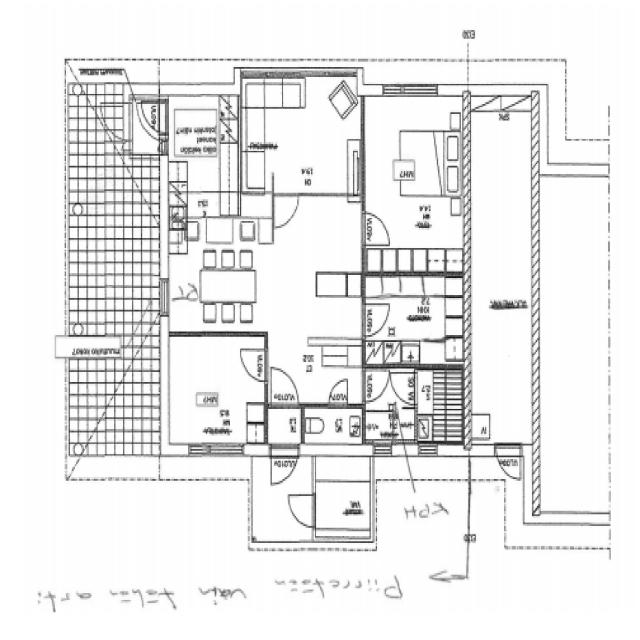door: (267, 363, 301, 406), (269, 442, 300, 487), (136, 99, 166, 144), (388, 365, 419, 408), (360, 208, 393, 248), (361, 298, 393, 337), (362, 366, 393, 406), (271, 192, 302, 230), (286, 490, 316, 529), (238, 345, 268, 383), (495, 443, 523, 483), (326, 375, 352, 406)
window: (380, 79, 440, 100), (200, 440, 243, 458), (371, 440, 394, 458), (188, 442, 209, 457)
zone: (169, 86, 267, 334), (471, 106, 536, 444), (268, 193, 365, 406), (361, 88, 464, 271), (240, 73, 361, 195), (167, 332, 267, 450), (363, 276, 467, 366), (313, 457, 373, 545), (302, 342, 366, 406), (416, 365, 466, 443), (302, 405, 364, 449), (362, 396, 416, 442), (266, 404, 304, 445)
